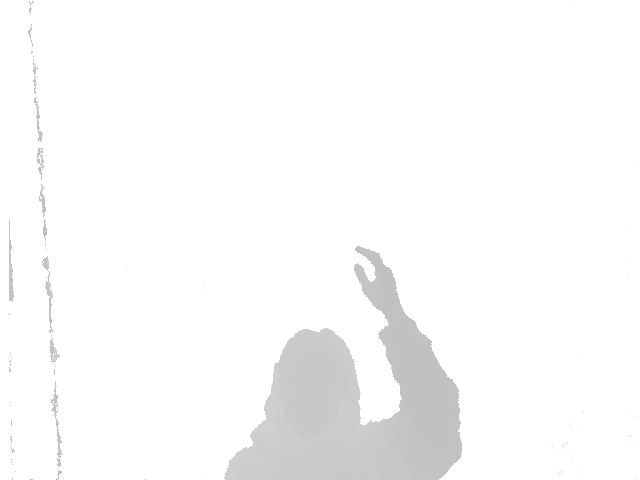hand: (351, 240, 402, 314)
head: (263, 326, 363, 446)
person: (223, 241, 463, 480)
